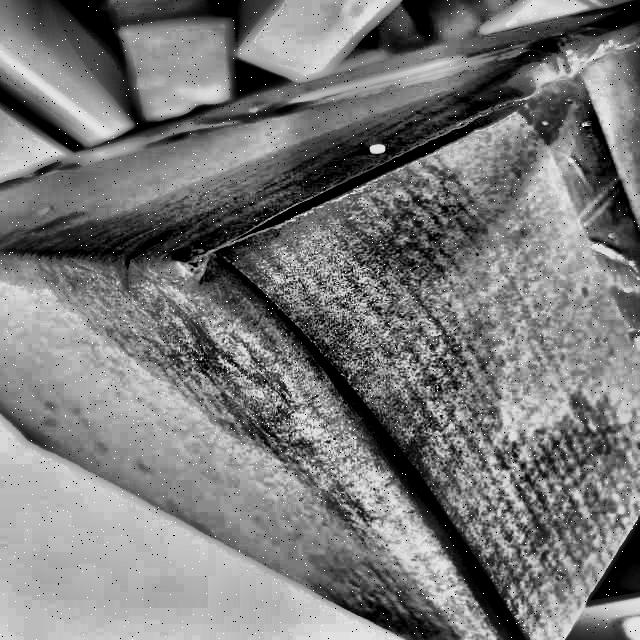box: (0, 0, 640, 640)
wet: (37, 118, 521, 543)
